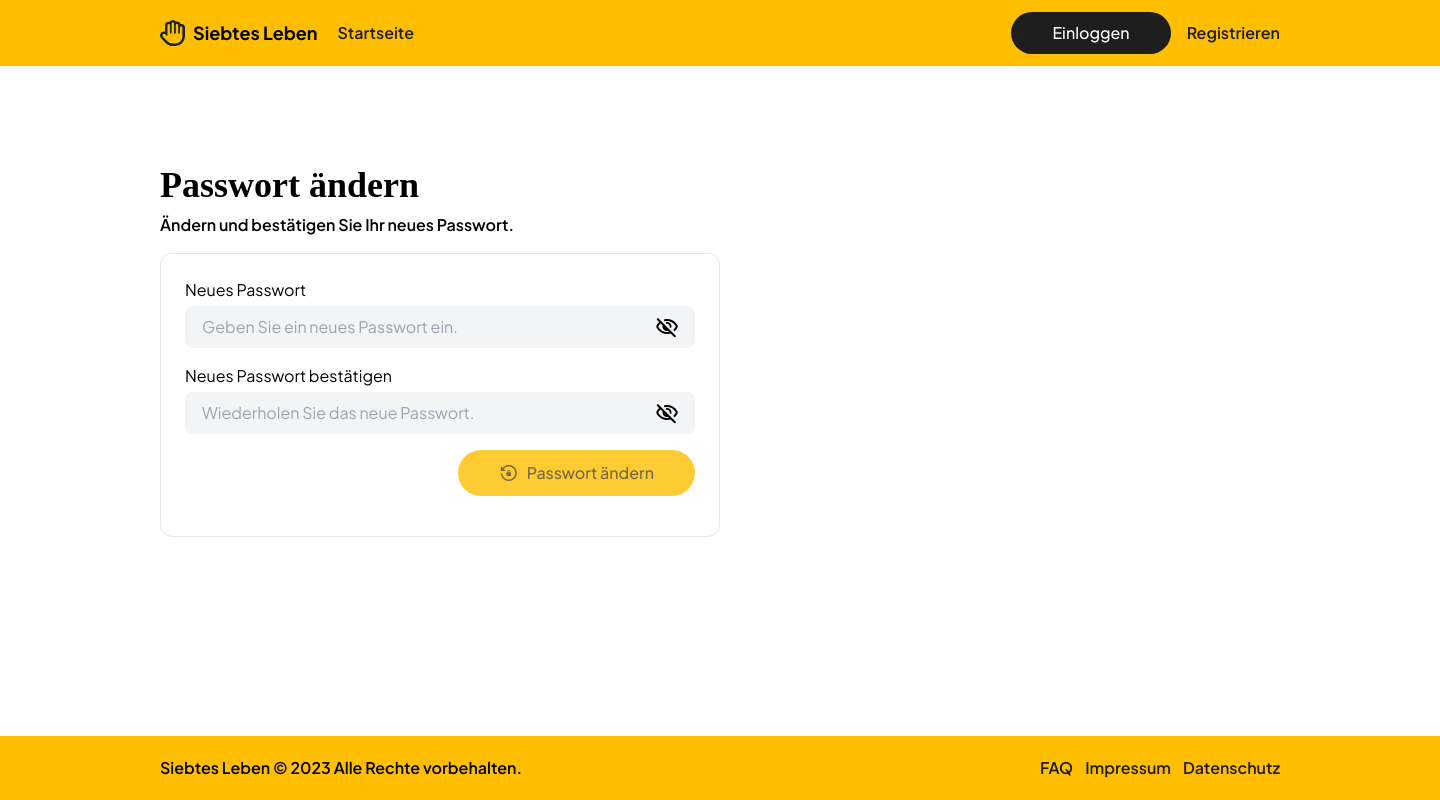
Test: Forgot password › Password Change Page › Error handling › API errors › should show error when internal server error
In the password field labelled "Neues Passwort": (440, 327) [185,306,695,348], type "password1234"
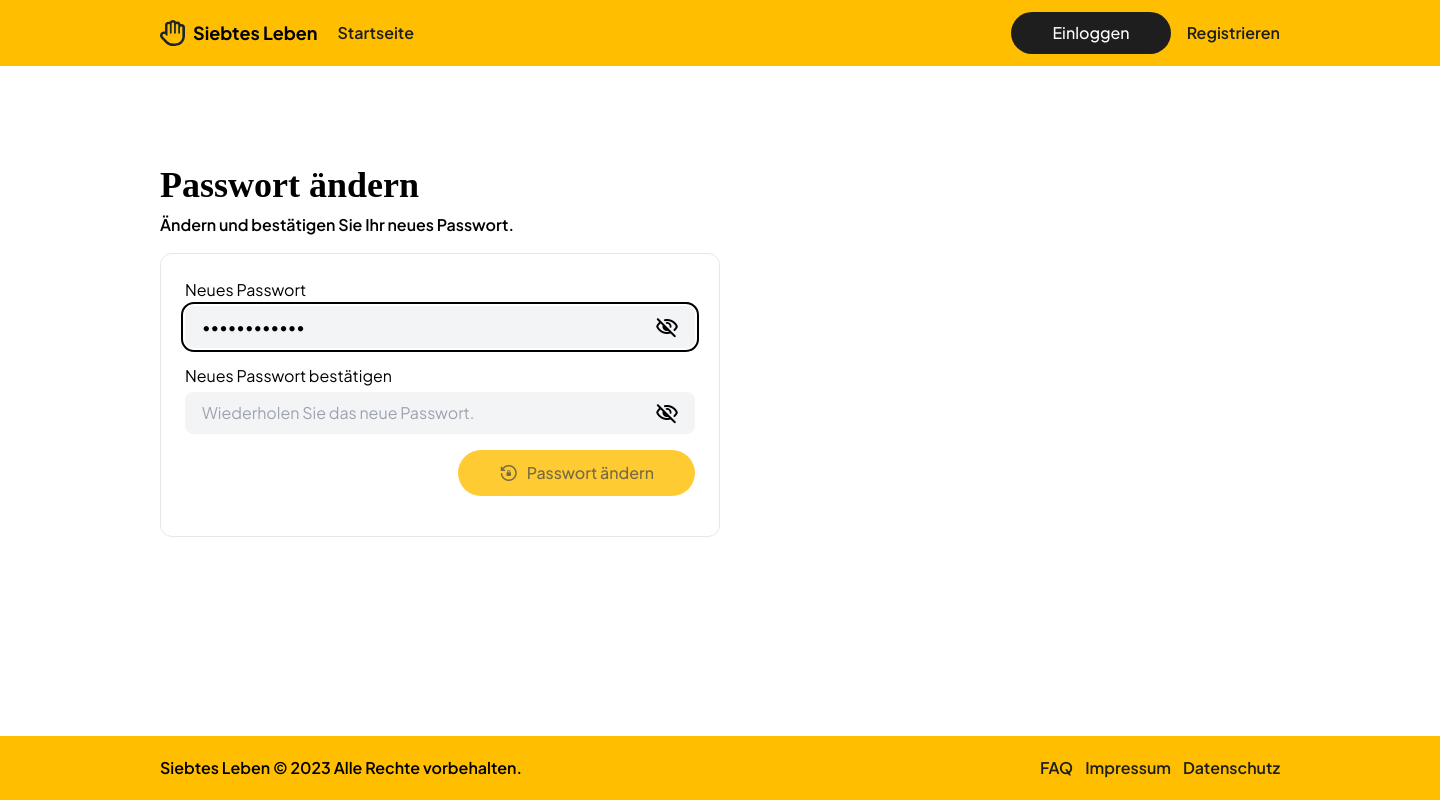
In the password field labelled "Neues Passwort bestätigen": (440, 413) [185,392,695,434], type "password1234"
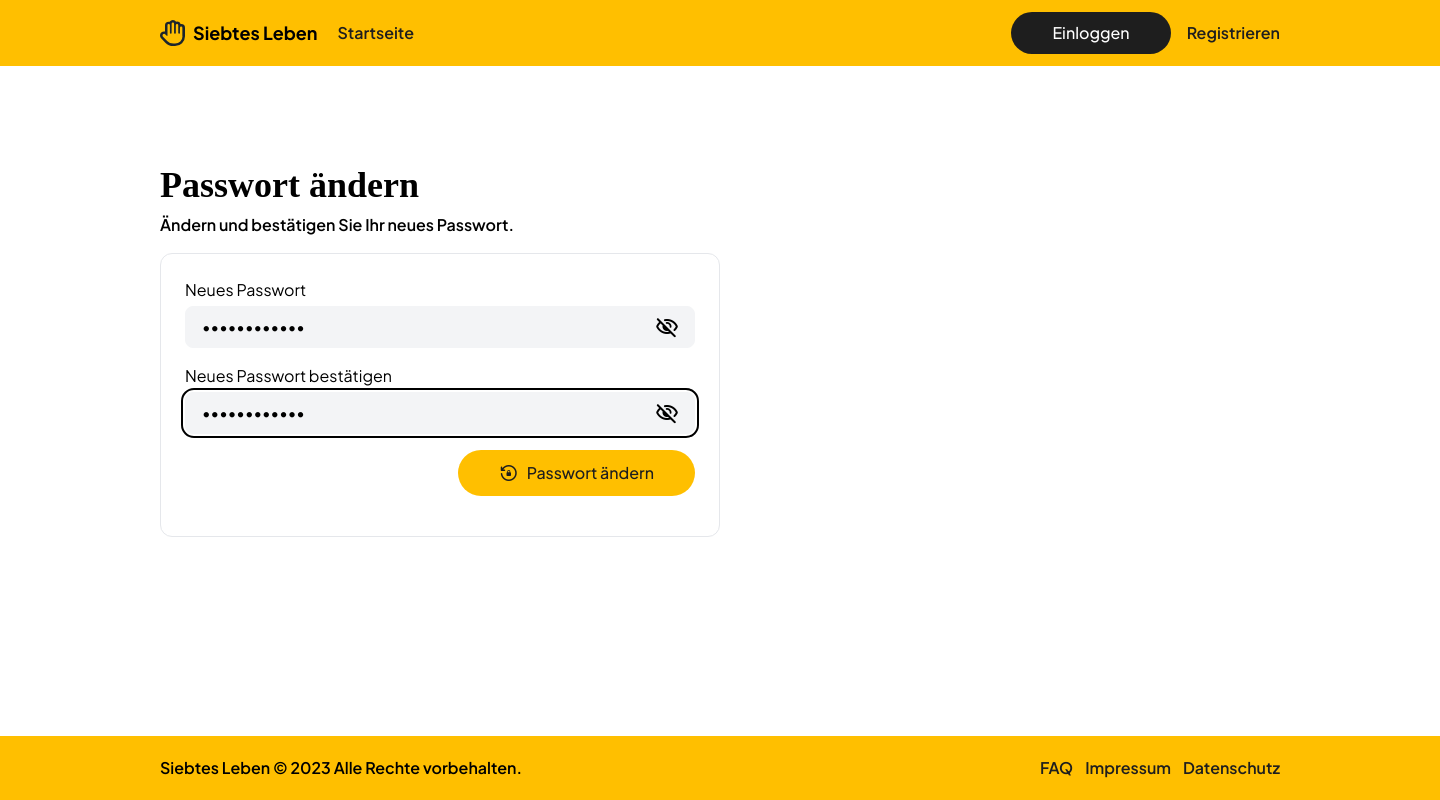
Click the button "Passwort ändern": (577, 473) [458,450,695,496]
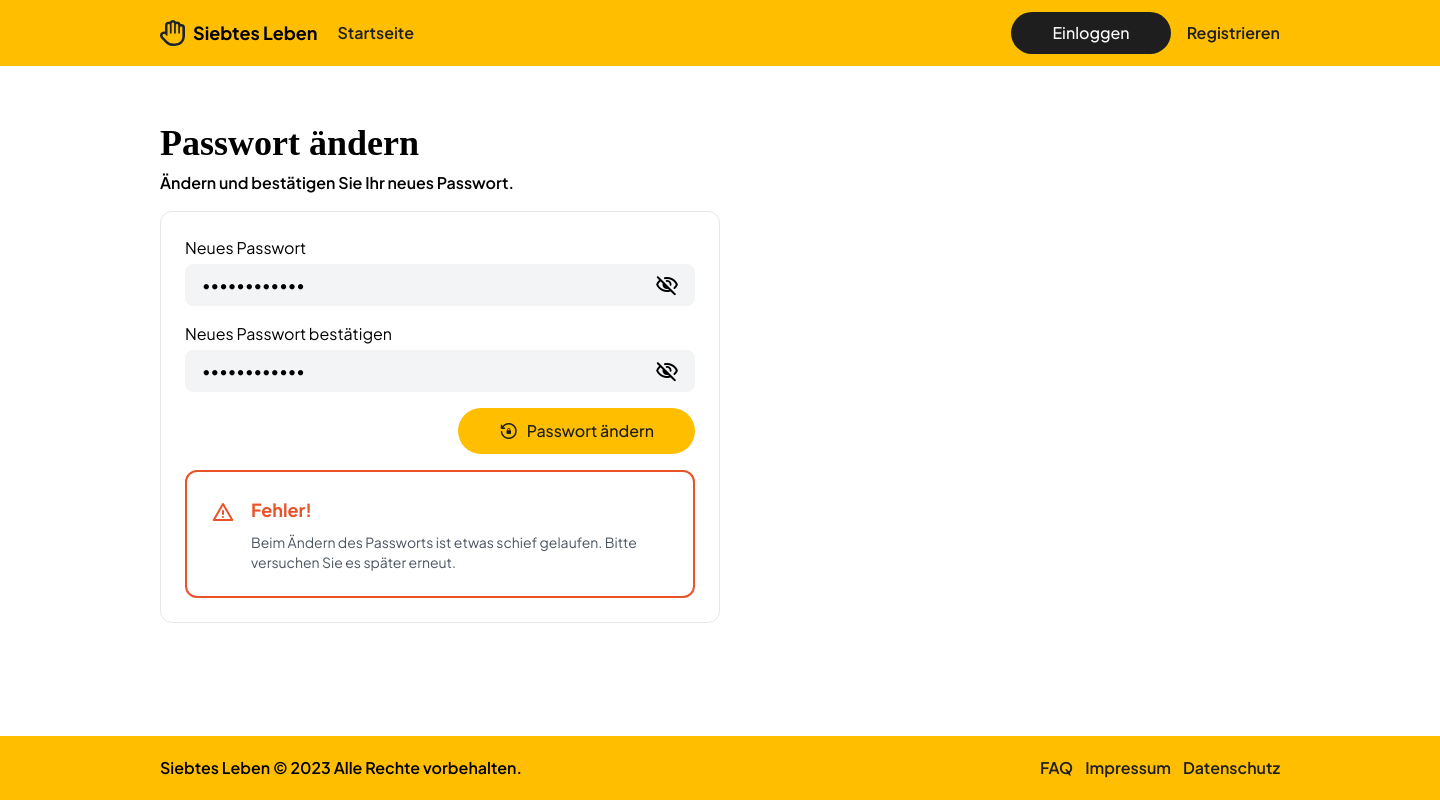
Result: the heading "Fehler!" is shown at [251,498,312,521]
Result: the text "Beim Ändern des Passworts ist etwas schief gelaufen. Bitte versuchen Sie es später erneut." is shown at [251,533,637,571]
